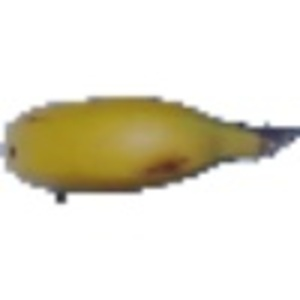banana: (6, 86, 294, 190)
